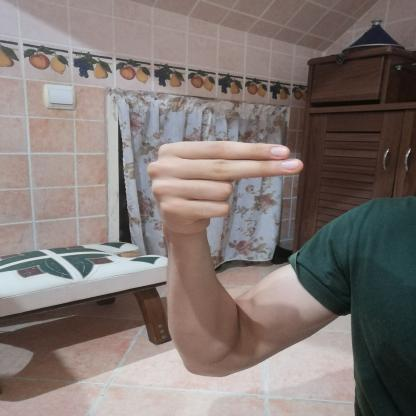AYN: (131, 126, 320, 248)
